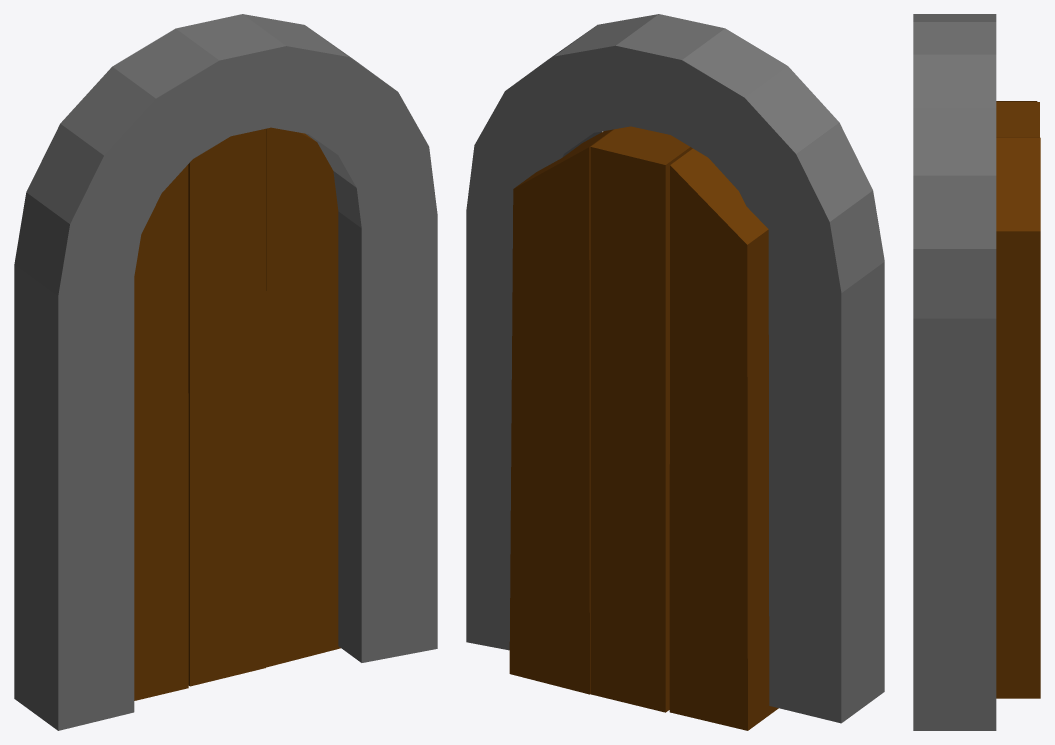
The model's file is NoLockDoor.fbx.
3 views of the same model, side by side, from view 1: azimuth 30°, elevation 25°; view 2: azimuth 150°, elevation 25°; view 3: azimuth 270°, elevation 25° (orthographic). The views are drawn at different scales.
Parts seen in each view (by area): view 1: SmallDoorArchNoLock, Cube__9_, Cube__11_, Cube__10_; view 2: SmallDoorArchNoLock, Cube__10_, Cube__9_, Cube__11_; view 3: SmallDoorArchNoLock, Cube__11_, Cube__9_.
Part boxes in pixels (box(x1,y1,x2,y2)): SmallDoorArchNoLock: box(14, 14, 437, 730); Cube__9_: box(188, 128, 265, 686); Cube__11_: box(266, 127, 340, 667); Cube__10_: box(134, 164, 188, 700); SmallDoorArchNoLock: box(466, 14, 884, 723); Cube__10_: box(669, 148, 778, 730); Cube__9_: box(590, 126, 692, 712); Cube__11_: box(509, 129, 613, 694); SmallDoorArchNoLock: box(913, 14, 996, 730); Cube__11_: box(996, 137, 1040, 698); Cube__9_: box(996, 102, 1039, 137).
Bounding box in the file's own units: 500 × 808 × 153.
